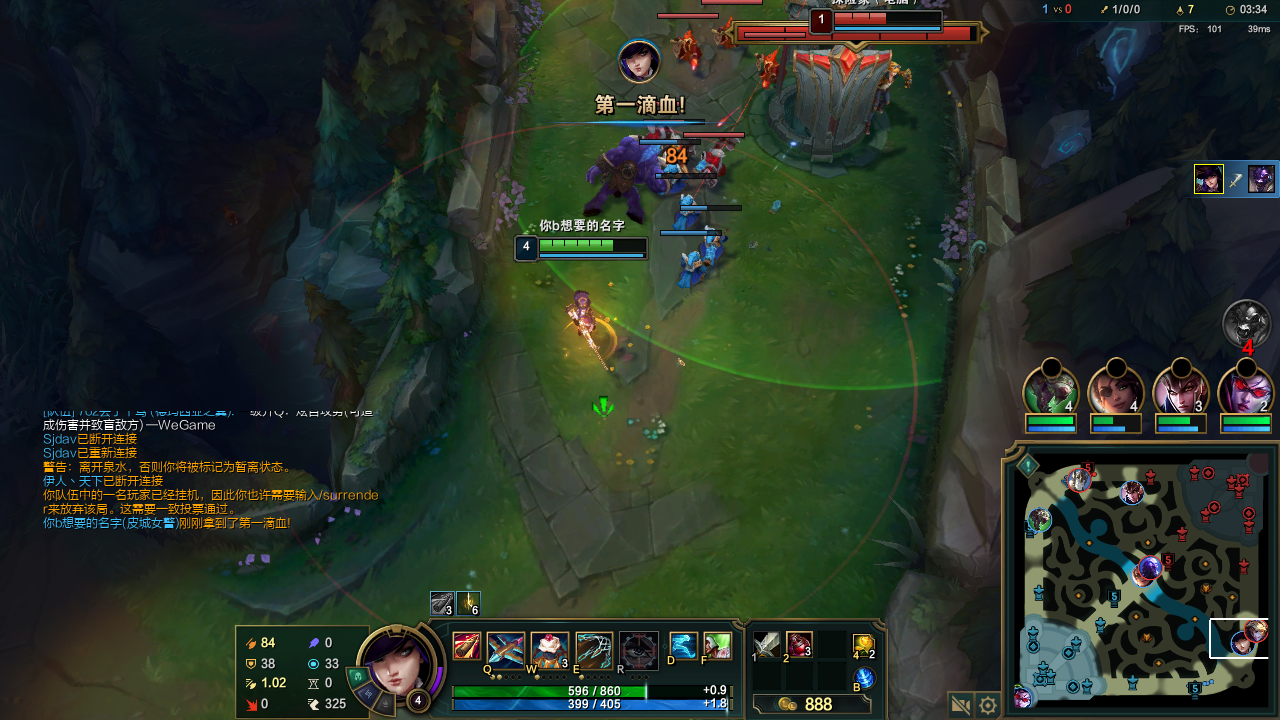DFFYT: (743, 31, 927, 150)
DFXB: (674, 33, 705, 67), (699, 153, 730, 186), (716, 24, 735, 54), (758, 55, 783, 77)
DFYX: (836, 14, 927, 26)
WFXB: (657, 154, 680, 194), (678, 194, 700, 229), (679, 254, 702, 287), (701, 225, 723, 259)
Yita: (1190, 686, 1200, 695)
